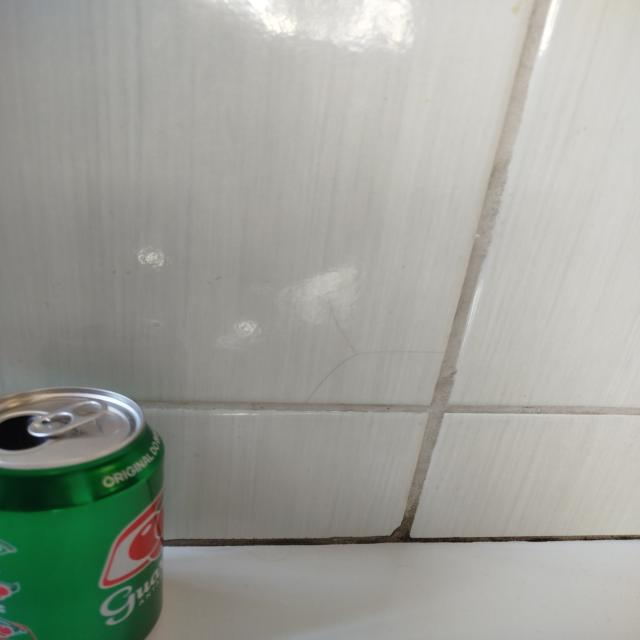Guarana: (0, 385, 171, 640)
